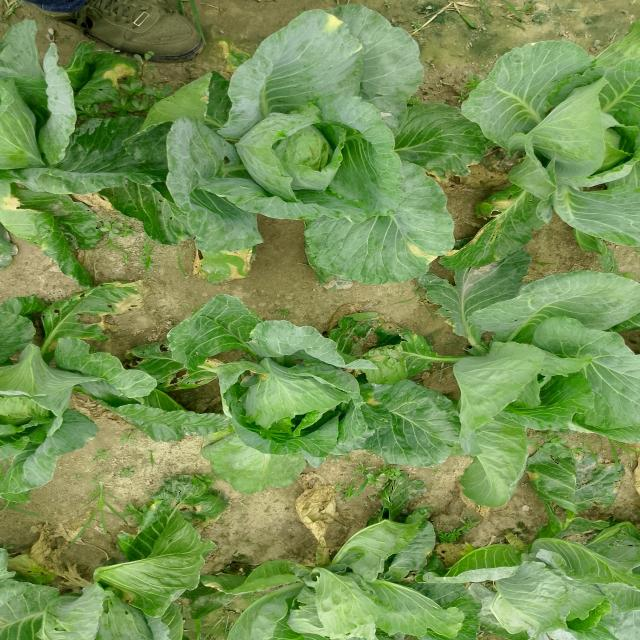Cabbage: (169, 0, 500, 284), (182, 304, 454, 494), (0, 45, 193, 294), (456, 249, 640, 482), (0, 316, 158, 525), (215, 500, 443, 640), (0, 499, 202, 640), (484, 45, 640, 227), (476, 504, 640, 640)
